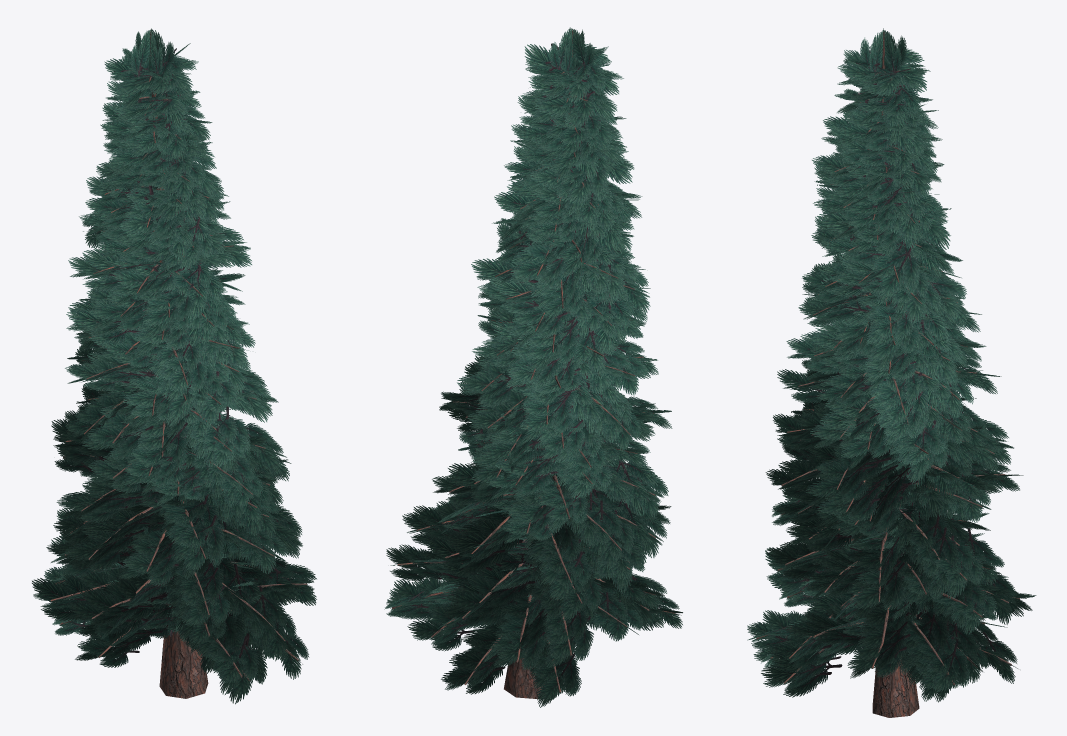
Rendered from nature-green-tall-fir_v4.glb.
The picture shows the model from 3 angles, left to right: view 1: azimuth 30°, elevation 25°; view 2: azimuth 150°, elevation 25°; view 3: azimuth 270°, elevation 25°; orthographic projection.
Visible parts, largest first — view 1: nature-green-tall-fir; view 2: nature-green-tall-fir; view 3: nature-green-tall-fir.
Boxes of the visible parts, x1,y1,x2,y2 form: nature-green-tall-fir: (32, 28, 316, 704); nature-green-tall-fir: (384, 27, 682, 707); nature-green-tall-fir: (747, 28, 1036, 717).
Size of the model in its own units: 5.92 by 13.53 by 5.93.
Materials: 2 (2 with a texture image).
